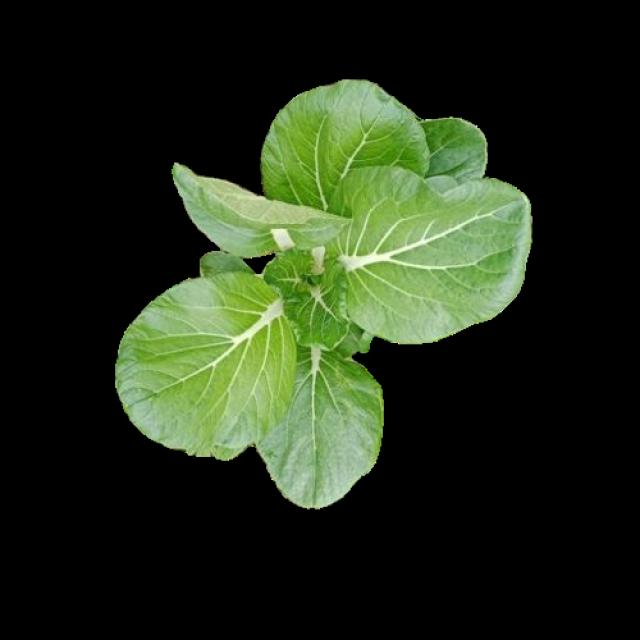healthy: (116, 78, 528, 502)
mature: (119, 81, 531, 504)
